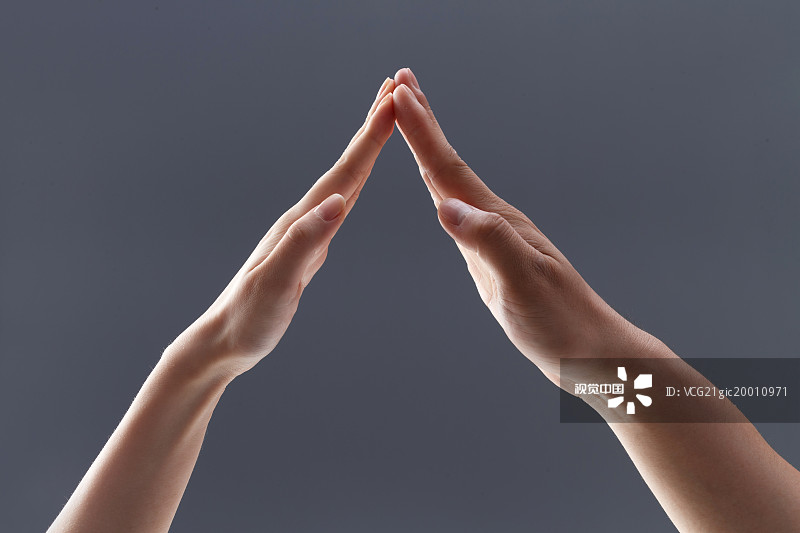no-phone: (152, 51, 403, 434), (379, 60, 619, 378)
